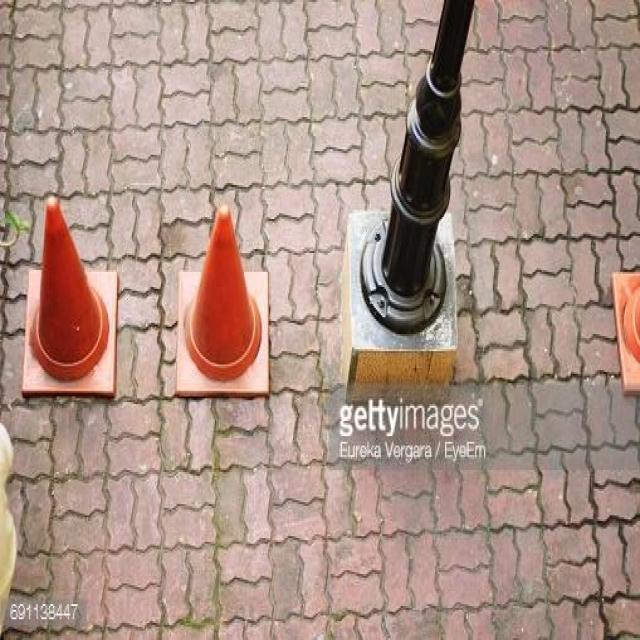Cone: (21, 192, 117, 398), (177, 200, 269, 400)
